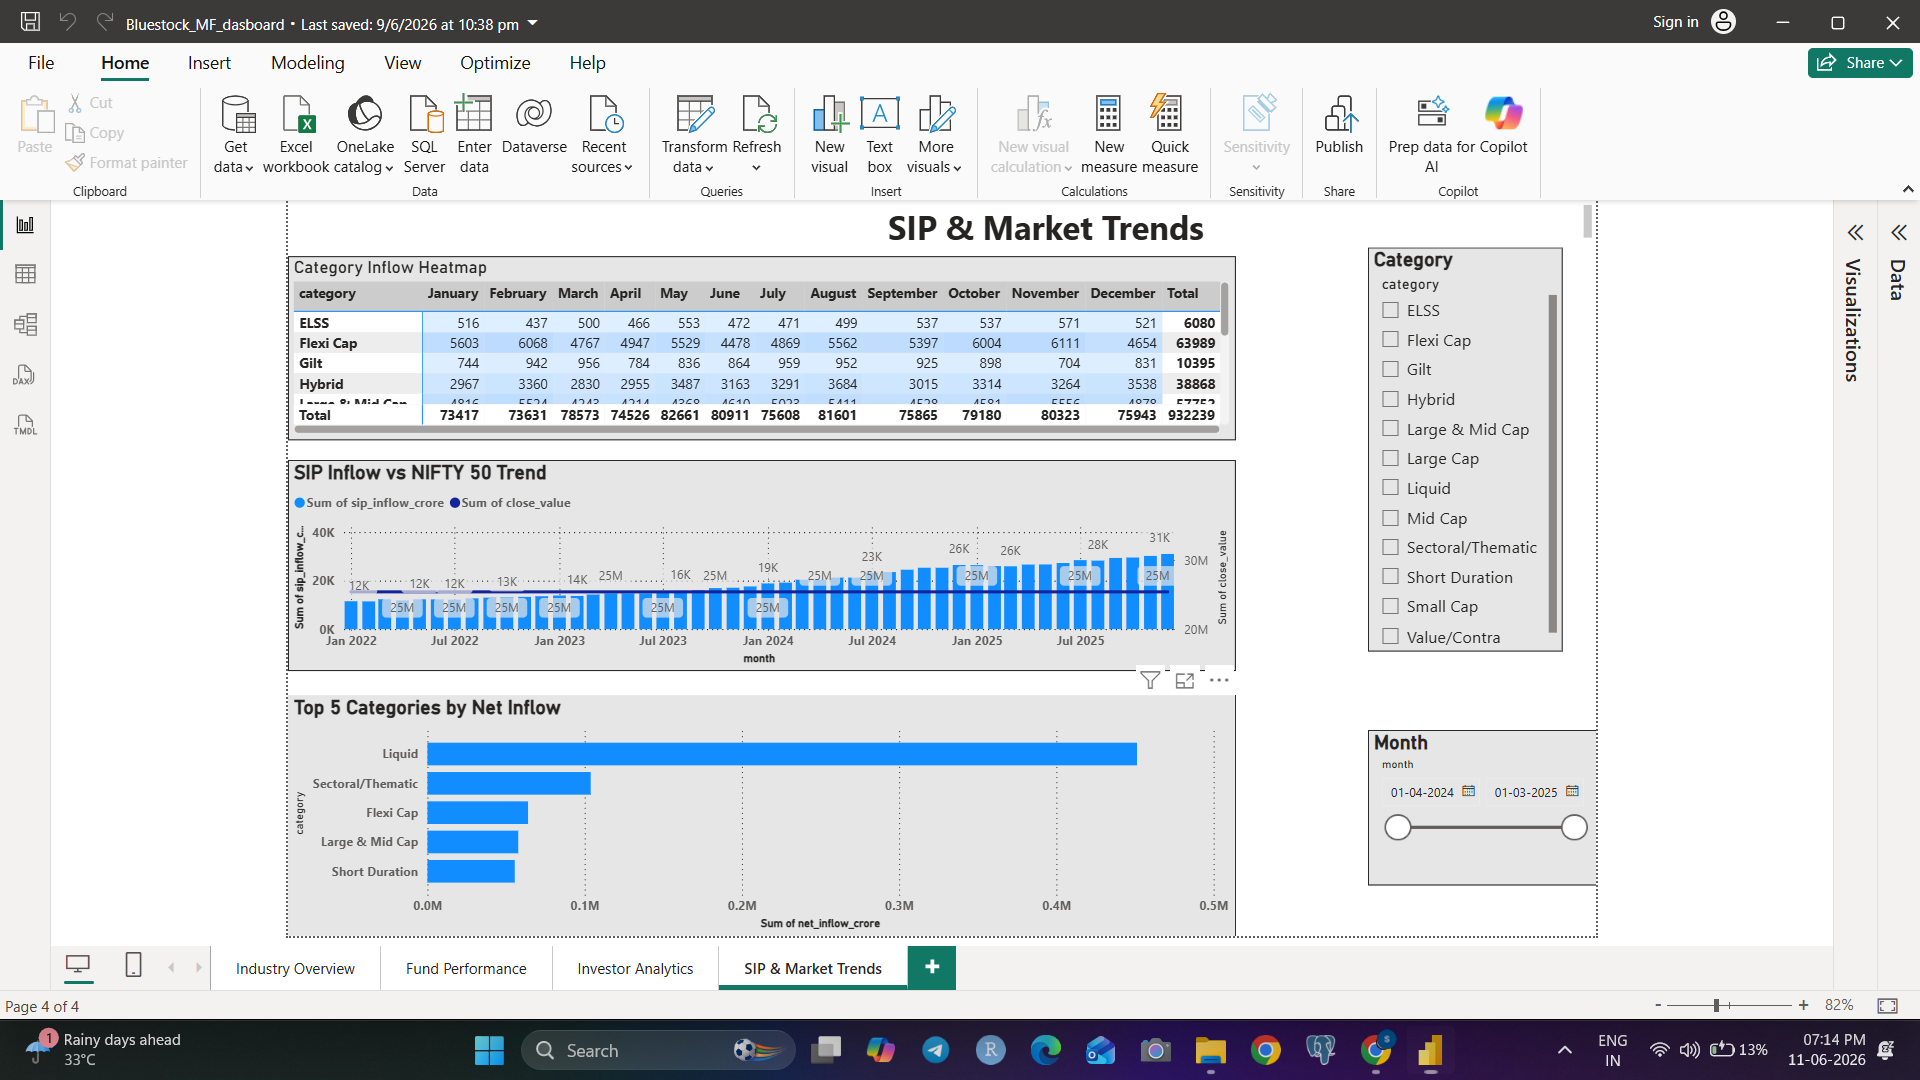

The dashboard page shown, as its layout file describes it:
{"tool":"powerbi","page":{"name":"SIP & Market Trends","canvas":[1280,720],"ordinal":3},"visuals":[{"type":"lineClusteredColumnComboChart","title":"SIP Inflow vs NIFTY 50 Trend","fields":{"Y":["Sum(04_monthly_sip_inflows.sip_inflow_crore)"],"Y2":["Sum(10_benchmark_indices.close_value)"],"Category":["04_monthly_sip_inflows.month"]},"box":[0,254.3,926.9,206.7],"z":0},{"type":"clusteredBarChart","title":"Top 5 Categories by Net Inflow","fields":{"Category":["05_category_inflows.category"],"Y":["Sum(05_category_inflows.net_inflow_crore)"]},"box":[0,484.2,926.9,236],"z":1000},{"type":"slicer","title":"Month","fields":{"Values":["05_category_inflows.month"]},"box":[1056.5,518.5,223.8,151.6],"z":2000},{"type":"slicer","title":"Category","fields":{"Values":["05_category_inflows.category"]},"box":[1056.5,46.5,190.8,395],"z":3000},{"type":"textbox","box":[208.6,0,1071.7,46.7],"z":4000},{"type":"pivotTable","title":"Category Inflow Heatmap","fields":{"Rows":["05_category_inflows.category"],"Values":["Sum(05_category_inflows.net_inflow_crore)"],"Columns":["05_category_inflows.month.Variation.Date Hierarchy.Month"]},"box":[0,55,926.9,179.8],"z":5000}]}

Visuals, with their boxes on the page's 1280x720 design canvas (x1, y1, x2, y2). These are canvas units, not pixel positions in the 1920x1080 screenshot, which may show the page scaled, cropped or inside an application window:
"SIP Inflow vs NIFTY 50 Trend" lineClusteredColumnComboChart: [0, 254, 927, 461]
"Top 5 Categories by Net Inflow" clusteredBarChart: [0, 484, 927, 720]
"Month" slicer: [1056, 518, 1280, 670]
"Category" slicer: [1056, 46, 1247, 442]
textbox: [209, 0, 1280, 47]
"Category Inflow Heatmap" pivotTable: [0, 55, 927, 235]
